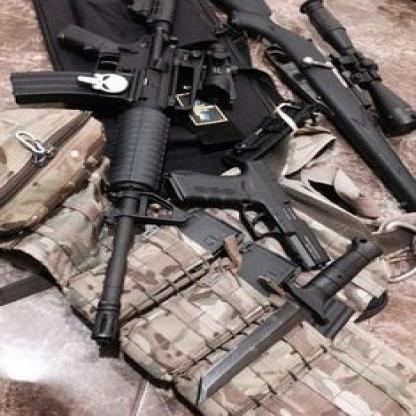Gun: (8, 1, 241, 345), (212, 0, 416, 208)
Knife: (199, 238, 381, 407)
Pistol: (164, 155, 331, 272)
